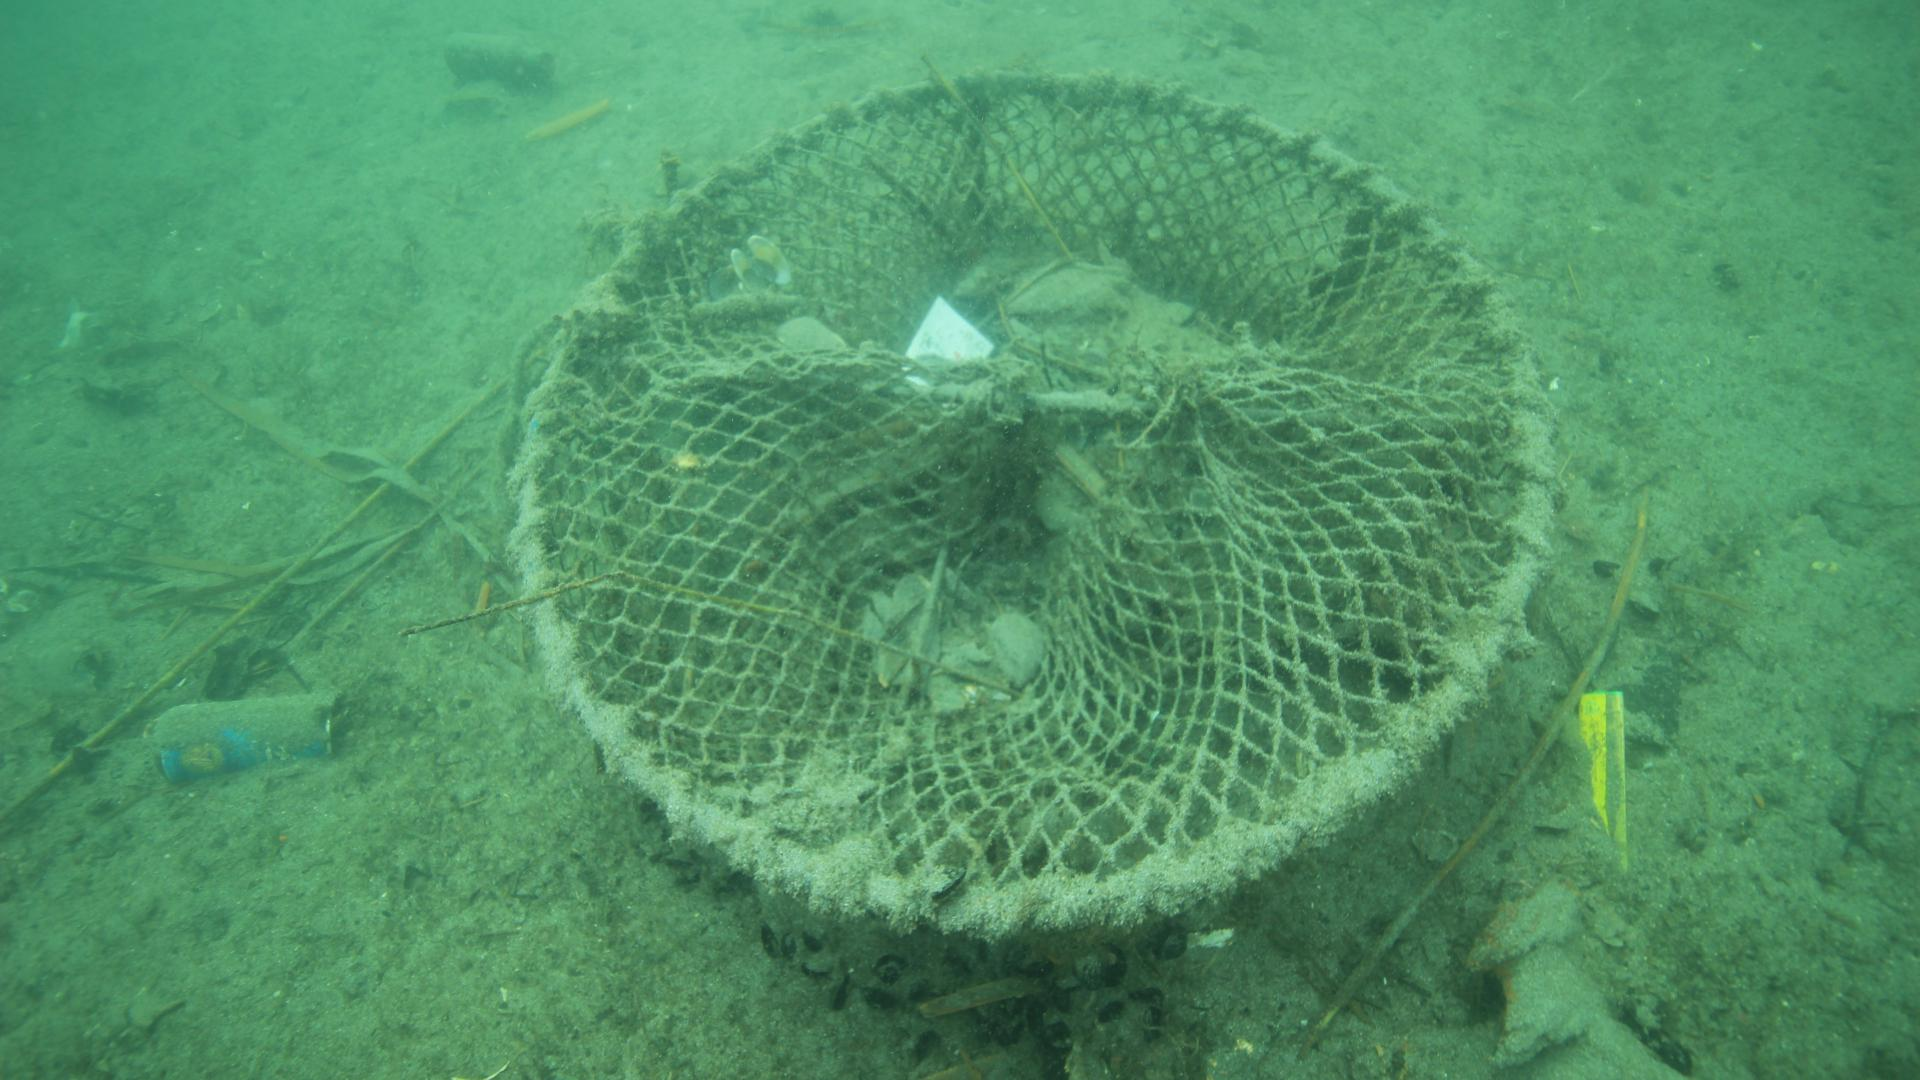circular fish trap: (498, 67, 1561, 940)
